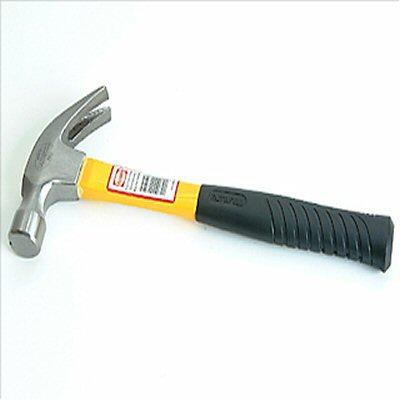hammer: (5, 83, 394, 273)
